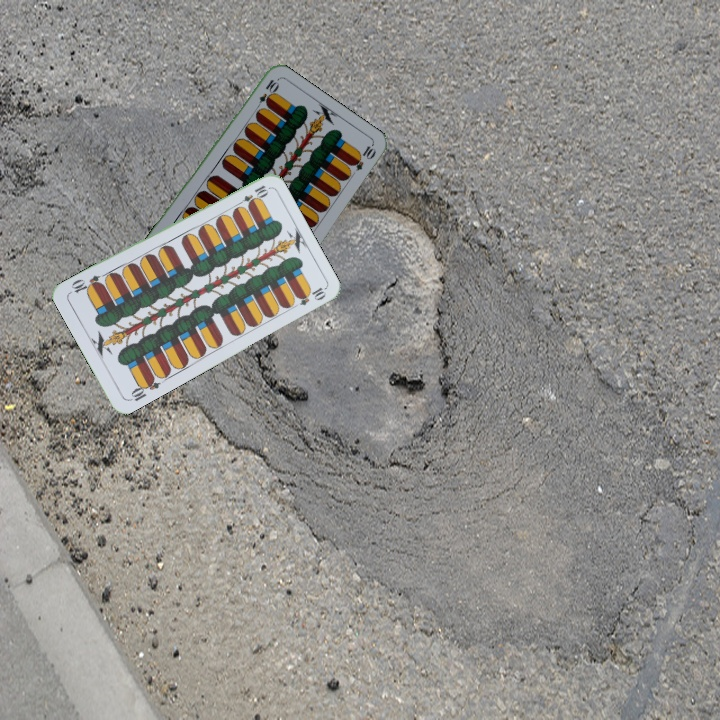E10: (125, 373, 162, 404), (232, 181, 270, 210), (252, 75, 280, 113)
